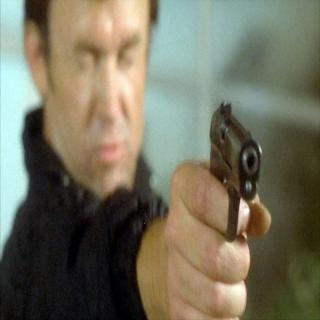gun: (160, 86, 273, 320)
